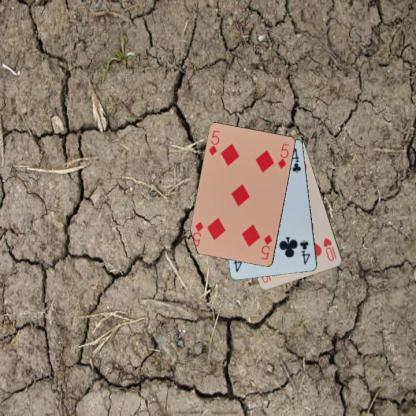10h: (320, 235, 336, 262)
4c: (298, 237, 312, 266)
5d: (258, 232, 274, 261), (206, 128, 221, 157)
